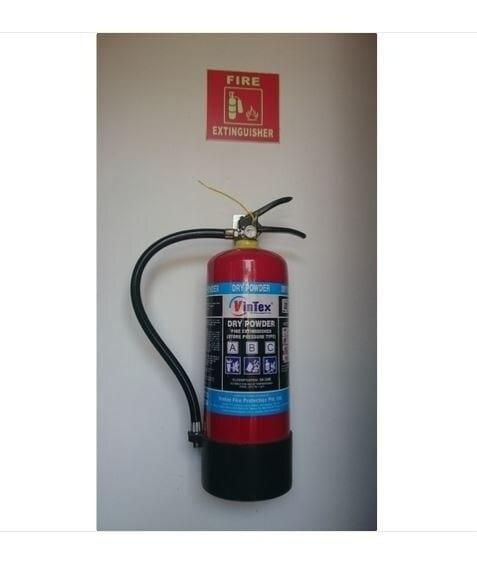wall-mounted: (126, 184, 317, 509)
